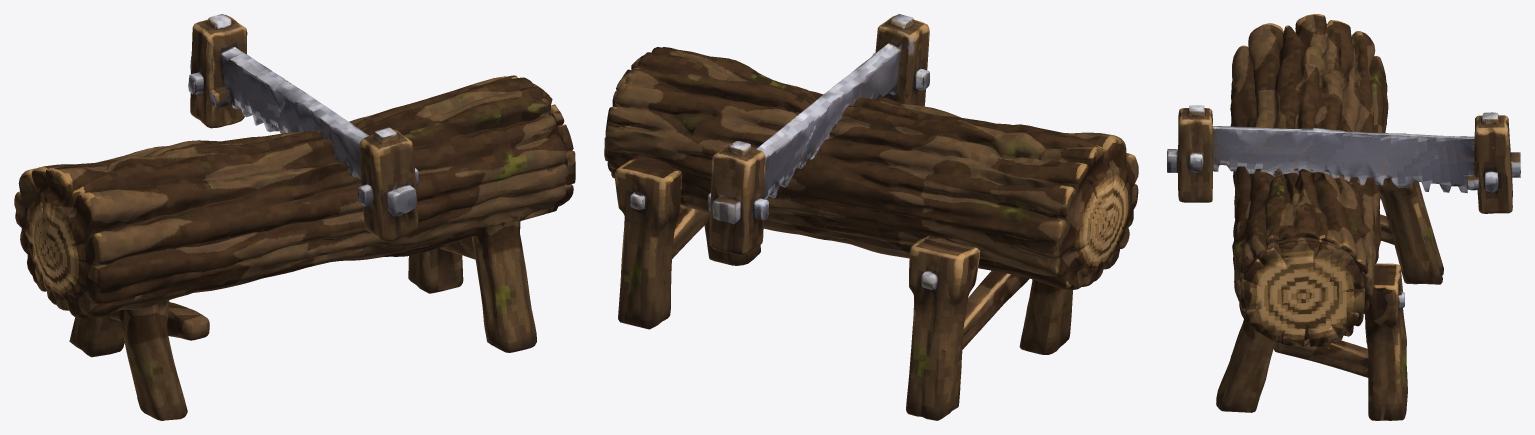
Rendered from log_with_saw.glb.
3 views of the same model, side by side, from view 1: azimuth 30°, elevation 25°; view 2: azimuth 150°, elevation 25°; view 3: azimuth 270°, elevation 25° (orthographic). The views are drawn at different scales.
Visible parts, largest first — view 1: Mesh_0; view 2: Mesh_0; view 3: Mesh_0.
Boxes of the visible parts, left/top/right/bottom form: Mesh_0: left=14, top=14, right=575, bottom=420; Mesh_0: left=604, top=14, right=1138, bottom=420; Mesh_0: left=1167, top=14, right=1520, bottom=420.
Size of the model in its own units: 1.9 by 1 by 1.34.
Materials: 1 (1 with a texture image).
